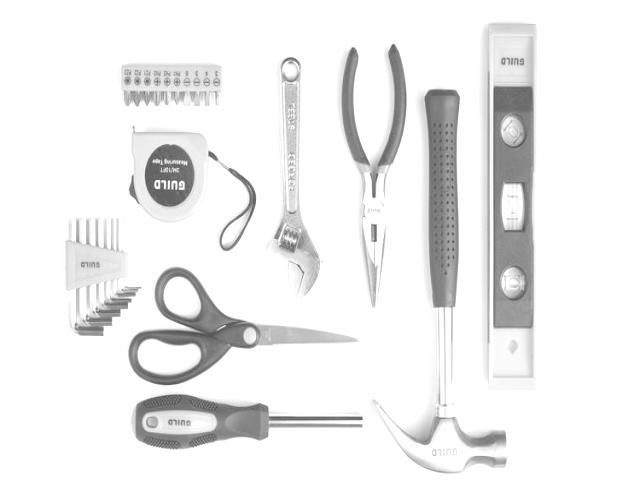Adjustable spanner: (268, 57, 321, 299)
Hammer: (375, 90, 508, 474)
Needle-nose pliers: (341, 45, 406, 307)
Screwdriver: (131, 395, 362, 450)
Tape measure: (130, 131, 255, 251)
